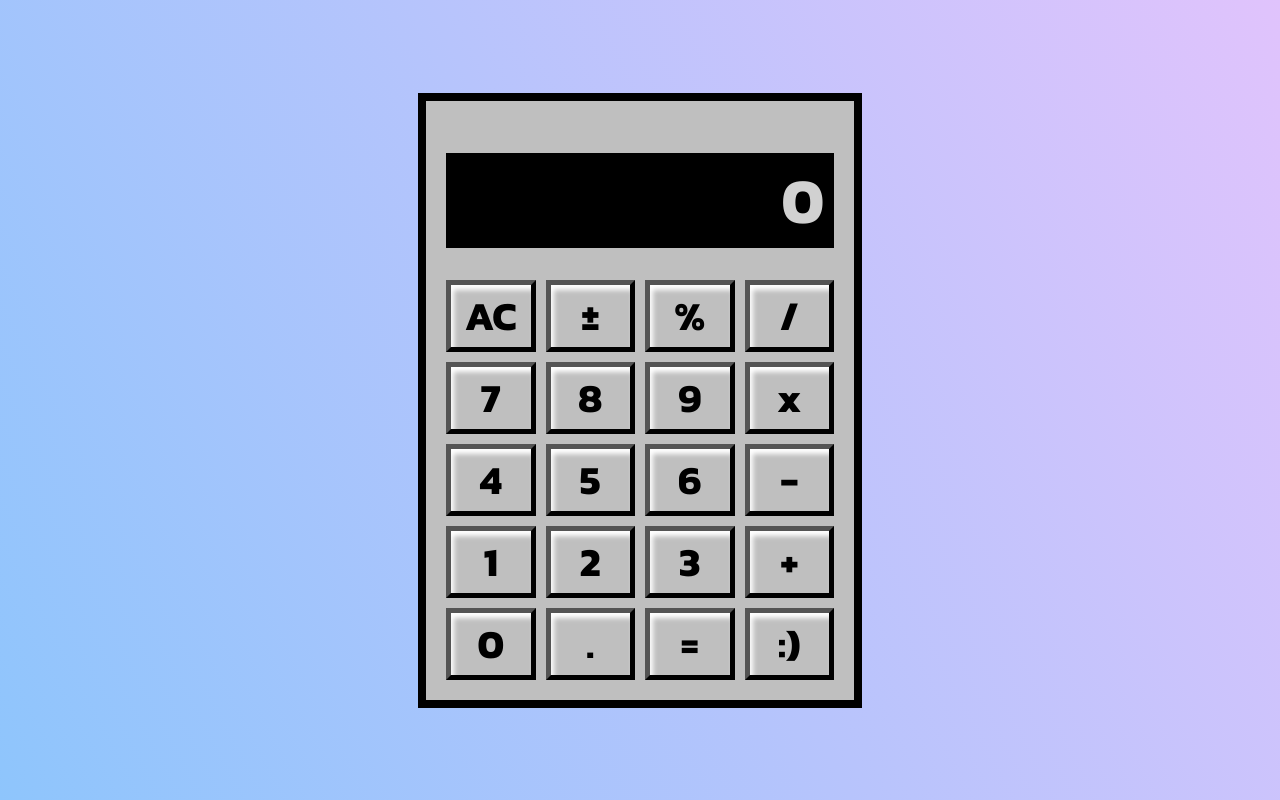
Test: Componente Calculadora › Realiza la multiplicación correctamente
Click the button "4" at point(491, 480), box [446,444,536,516]
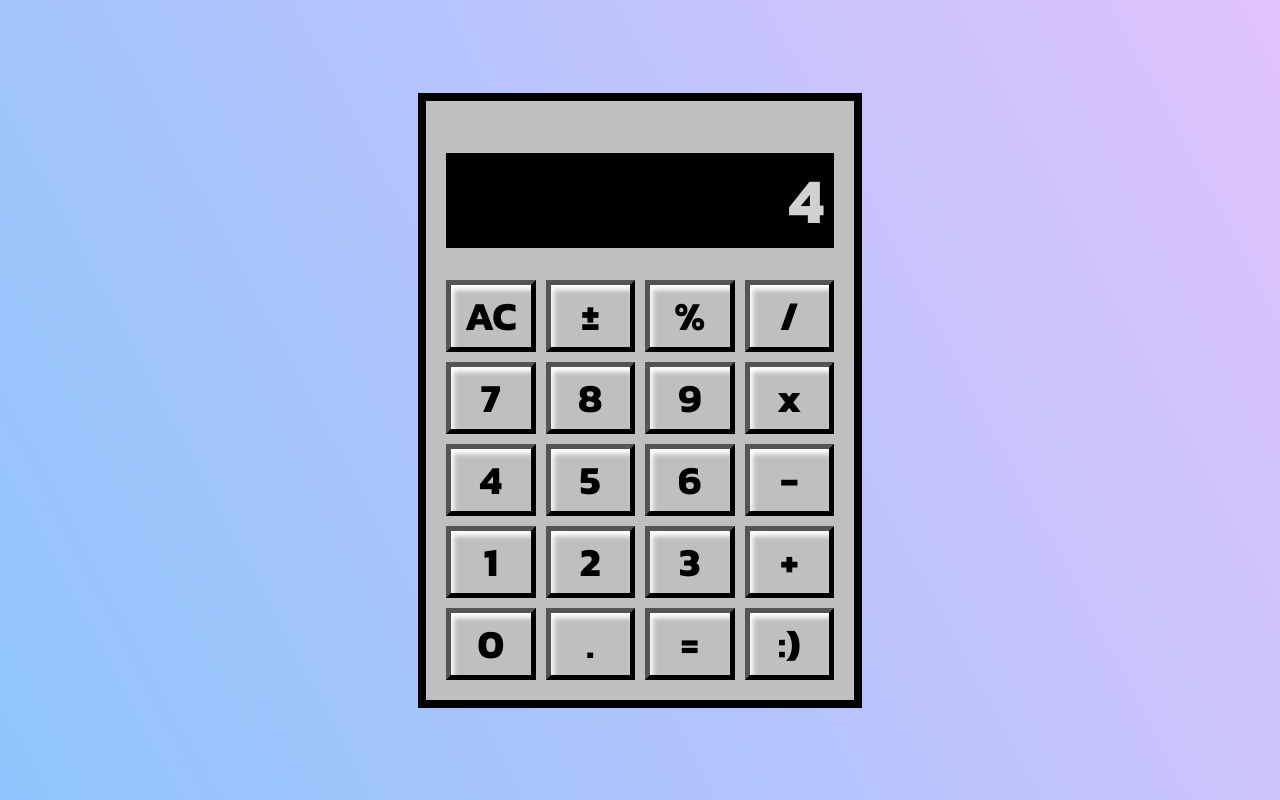
Click the button "x" at point(789, 398), box [744,362,834,434]
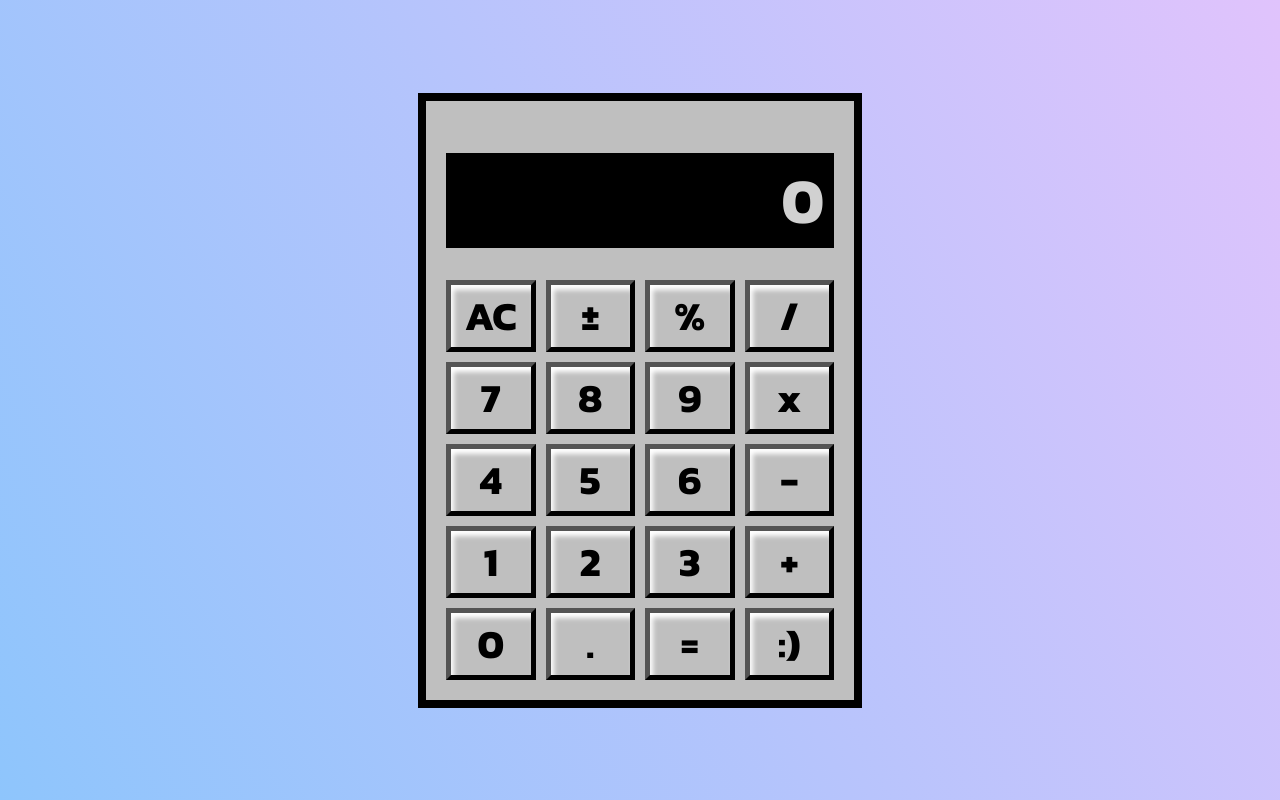
Click the button "6" at point(690, 480), box [645,444,734,516]
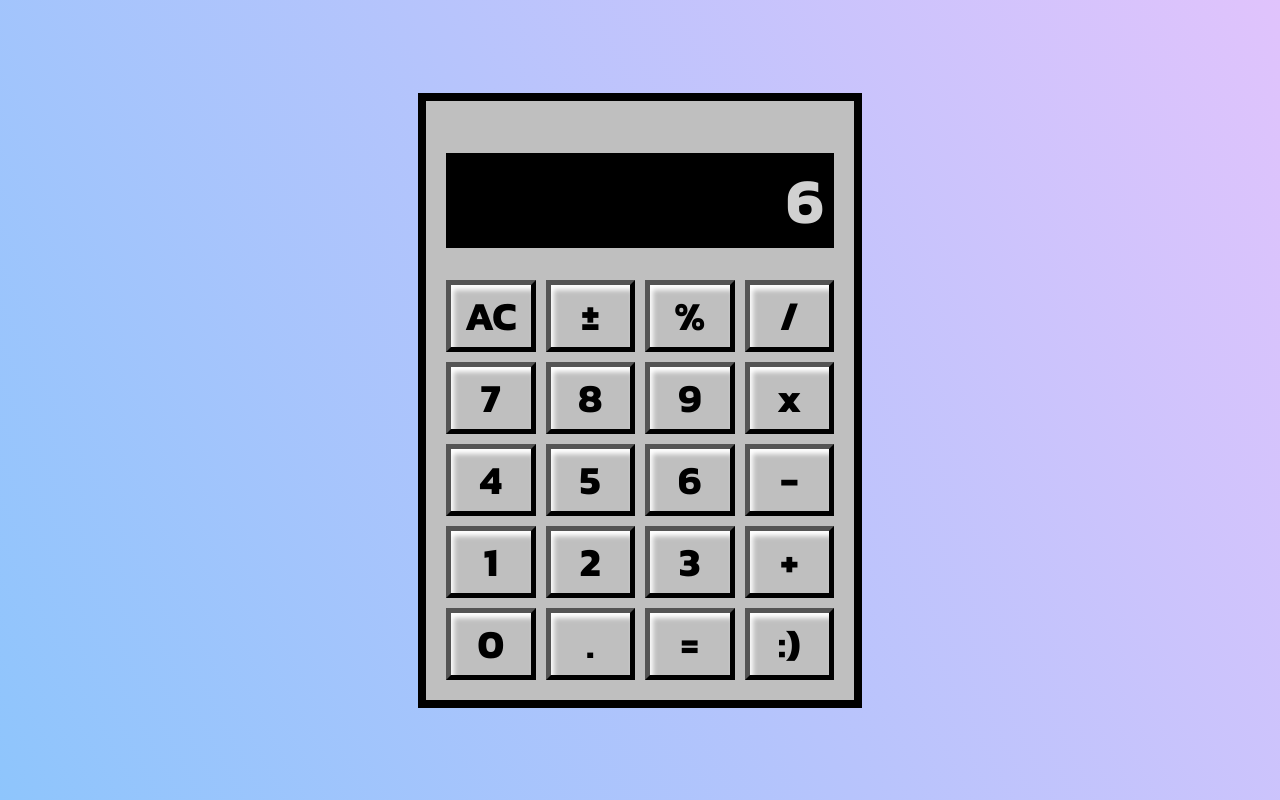
Click the button "=" at point(690, 644), box [645,608,734,680]
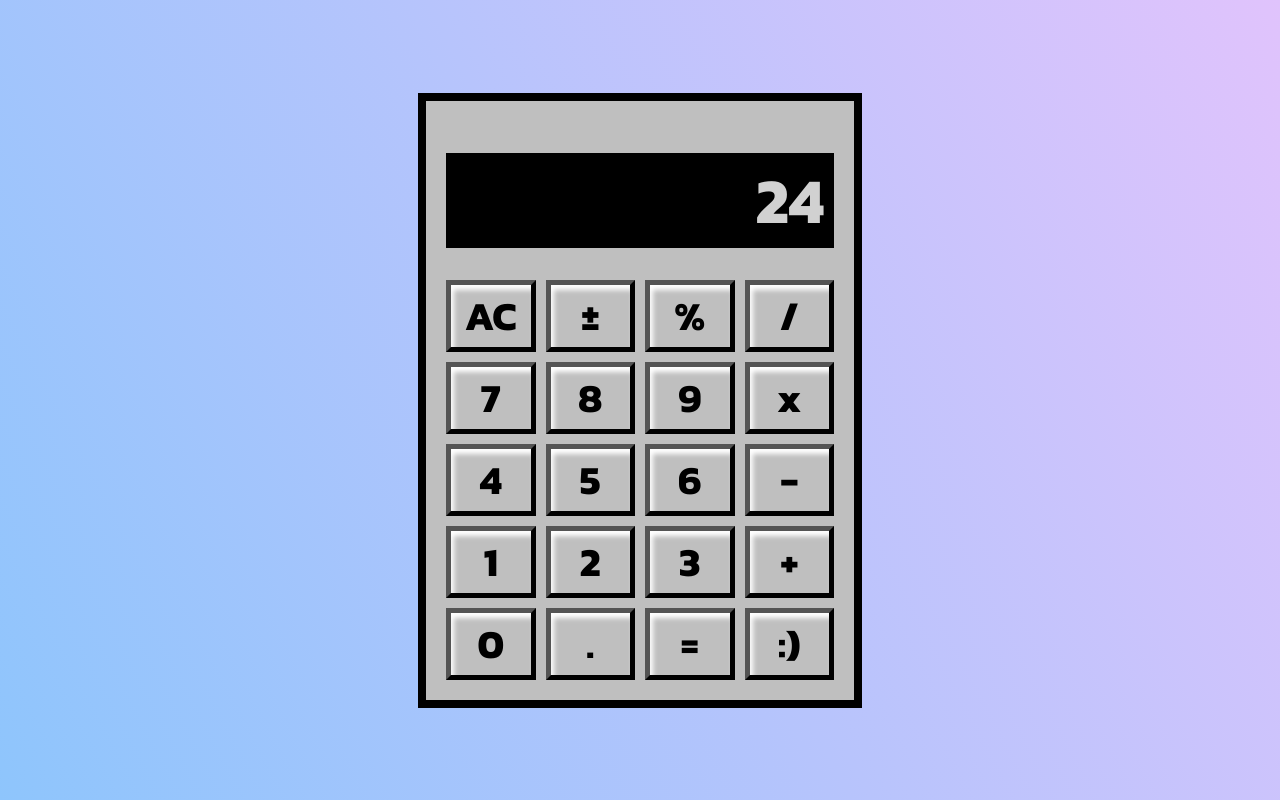
Expected: the text "0" reads "24", [756,152,824,248]
